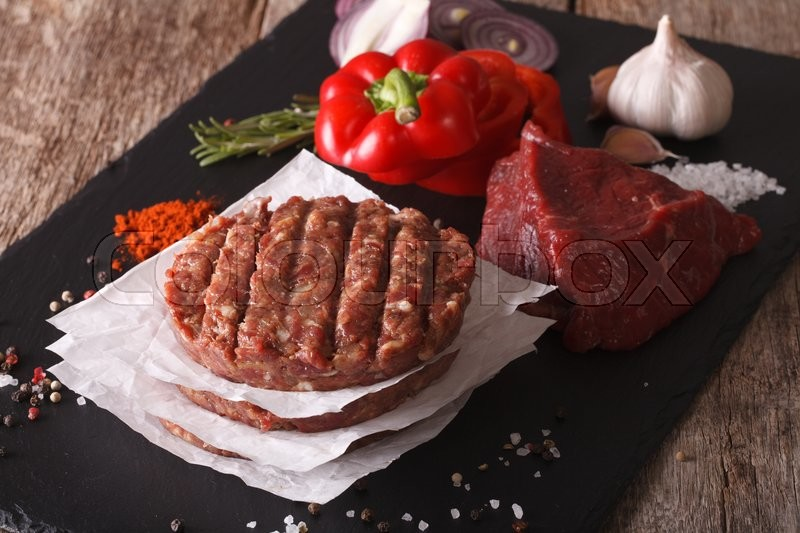ground_beef: (155, 200, 472, 401), (474, 135, 729, 366)
